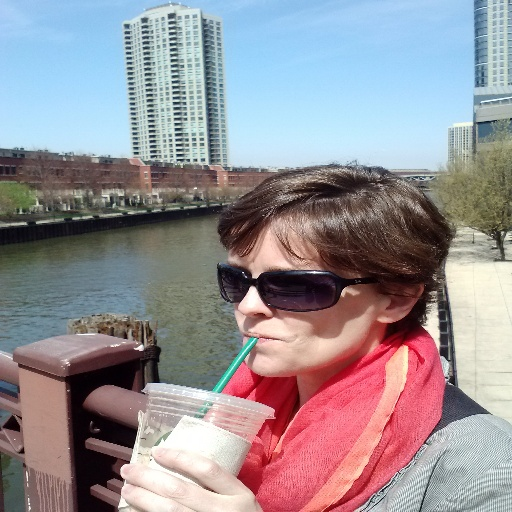hand: (80, 439, 264, 507)
